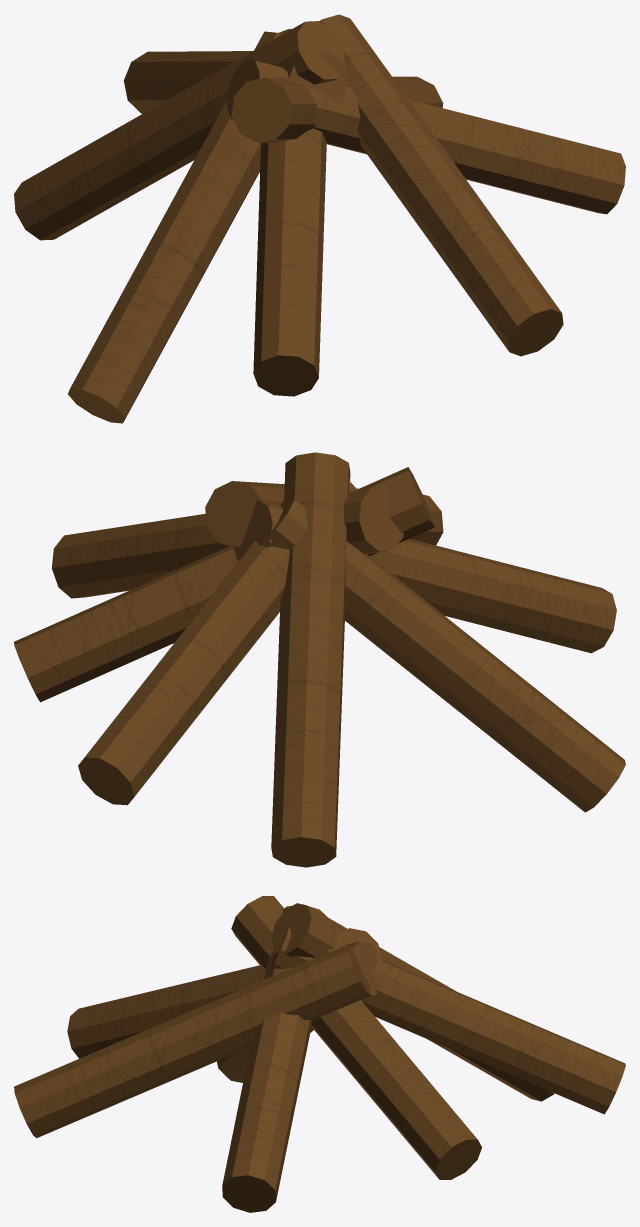
Rendered from Campfire_Wood.glb.
3 views of the same model, one above another, from view 1: azimuth 30°, elevation 25°; view 2: azimuth 150°, elevation 25°; view 3: azimuth 270°, elevation 25° (orthographic). The views are drawn at different scales.
Parts seen in each view (by area): view 1: Cylinder.003; view 2: Cylinder.003; view 3: Cylinder.003.
Part boxes in pixels (box(x1,y1,x2,y2)): Cylinder.003: box(14, 14, 625, 423); Cylinder.003: box(14, 452, 625, 867); Cylinder.003: box(14, 896, 625, 1212).
Bounding box in the file's own units: 6.25 × 3.47 × 7.
Materials: 1 (1 with a texture image).
